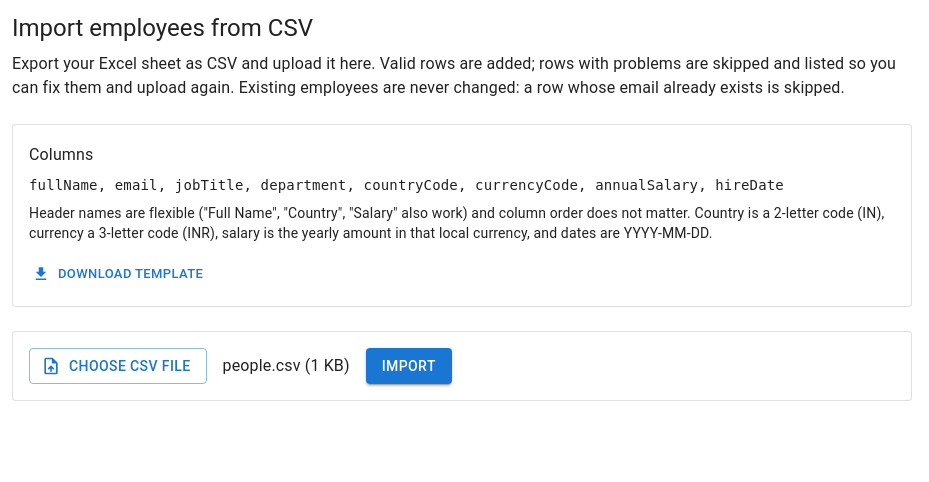
ImportPage › shows a whole-file problem from the server, such as missing columns
This screenshot has width=929, height=482.
Earlier steps of the test are not shown.
Click the button "Import". click: coordinates (409, 366)
box: 366,348 -> 452,384
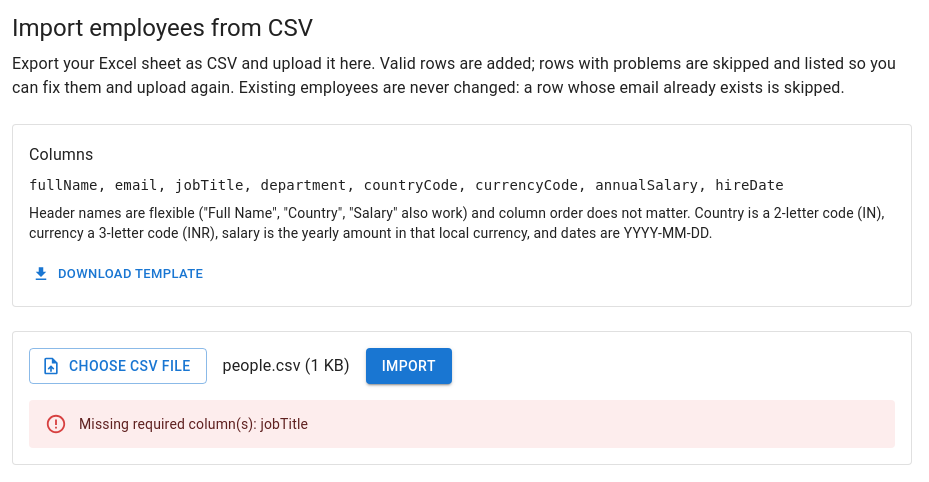
Expected: the text "Missing required column(s): jobTitle" is shown, 79,416 -> 308,432
